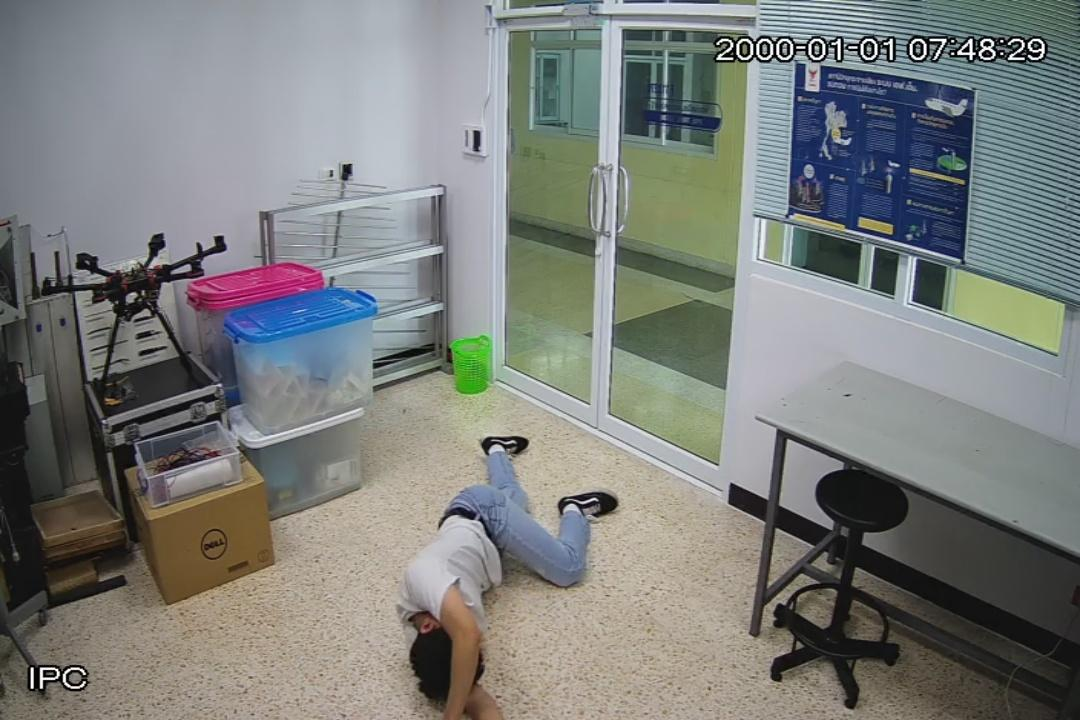fall: (395, 431, 620, 720)
